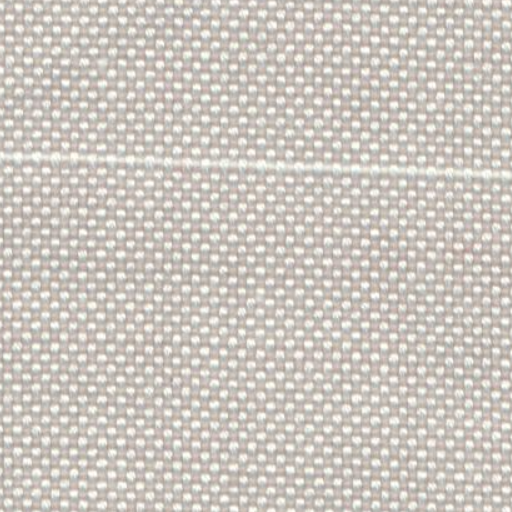TuoSha: (10, 118, 500, 214)
